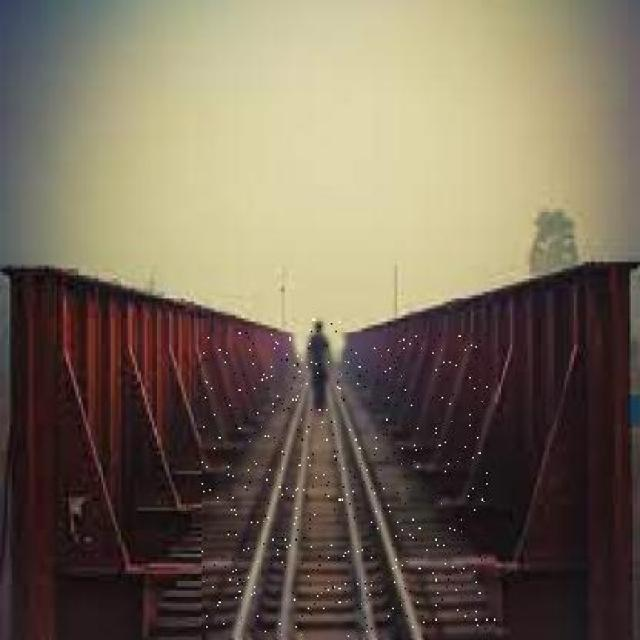danger: (304, 316, 341, 418)
rail: (203, 334, 495, 637)
